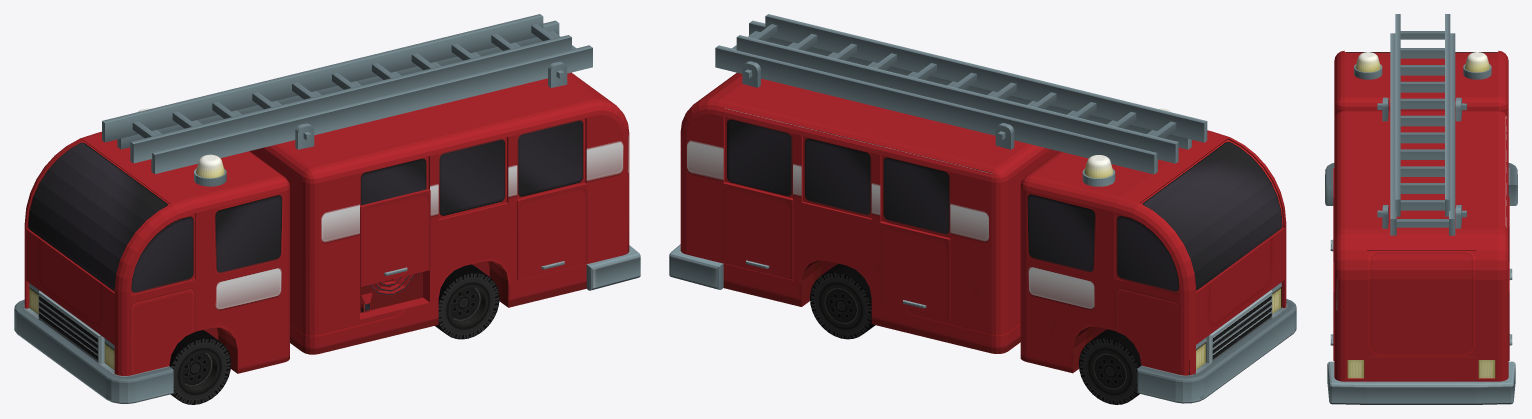
Rendered from fire engine.fbx.
The picture shows the model from 3 angles, left to right: view 1: azimuth 30°, elevation 25°; view 2: azimuth 150°, elevation 25°; view 3: azimuth 270°, elevation 25°; orthographic projection. The views are drawn at different scales.
Parts seen in each view (by area): view 1: Cube.006, Cube.053, Cube.052, QBlock.282, QBlock.281, Cylinder.006, Cylinder.007, Cylinder.005; view 2: Cube.006, Cube.053, Cube.052, QBlock.283, QBlock.284, Cylinder.008, Cylinder.009, Cylinder.004; view 3: Cube.006, Cube.053, Cube.052, Cylinder.004, Cylinder.005, QBlock.284, QBlock.282, QBlock.281, Cube.057, Cube.056, Cube.054, Cube.055.
Boxes of the visible parts, left/top/right/bottom form: Cube.006: left=14, top=72, right=640, bottom=403; Cube.053: left=102, top=14, right=571, bottom=163; Cube.052: left=117, top=20, right=592, bottom=173; QBlock.282: left=517, top=183, right=587, bottom=280; QBlock.281: left=360, top=189, right=430, bottom=286; Cylinder.006: left=435, top=264, right=499, bottom=339; Cylinder.007: left=169, top=330, right=230, bottom=404; Cylinder.005: left=194, top=154, right=226, bottom=186; Cube.006: left=669, top=72, right=1296, bottom=403; Cube.053: left=736, top=14, right=1207, bottom=163; Cube.052: left=715, top=20, right=1191, bottom=174; QBlock.283: left=879, top=221, right=950, bottom=319; QBlock.284: left=722, top=182, right=793, bottom=279; Cylinder.008: left=810, top=263, right=875, bottom=339; Cylinder.009: left=1079, top=329, right=1141, bottom=404; Cylinder.004: left=1082, top=155, right=1115, bottom=186; Cube.006: left=1325, top=50, right=1517, bottom=404; Cube.053: left=1395, top=14, right=1450, bottom=216; Cube.052: left=1390, top=33, right=1455, bottom=235; Cylinder.004: left=1463, top=52, right=1491, bottom=79; Cylinder.005: left=1354, top=52, right=1382, bottom=79; QBlock.284: left=1508, top=262, right=1512, bottom=360; QBlock.282: left=1330, top=262, right=1334, bottom=360; QBlock.281: left=1330, top=168, right=1334, bottom=262; Cube.057: left=1455, top=97, right=1466, bottom=121; Cube.056: left=1455, top=205, right=1466, bottom=228; Cube.054: left=1377, top=205, right=1388, bottom=228; Cube.055: left=1377, top=97, right=1388, bottom=121.
Size of the model in its own units: 708 by 314 by 257.
